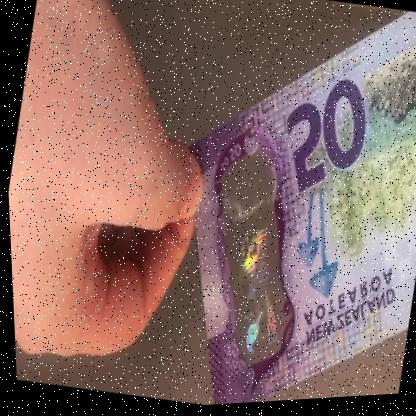50B: (196, 164, 308, 368)
